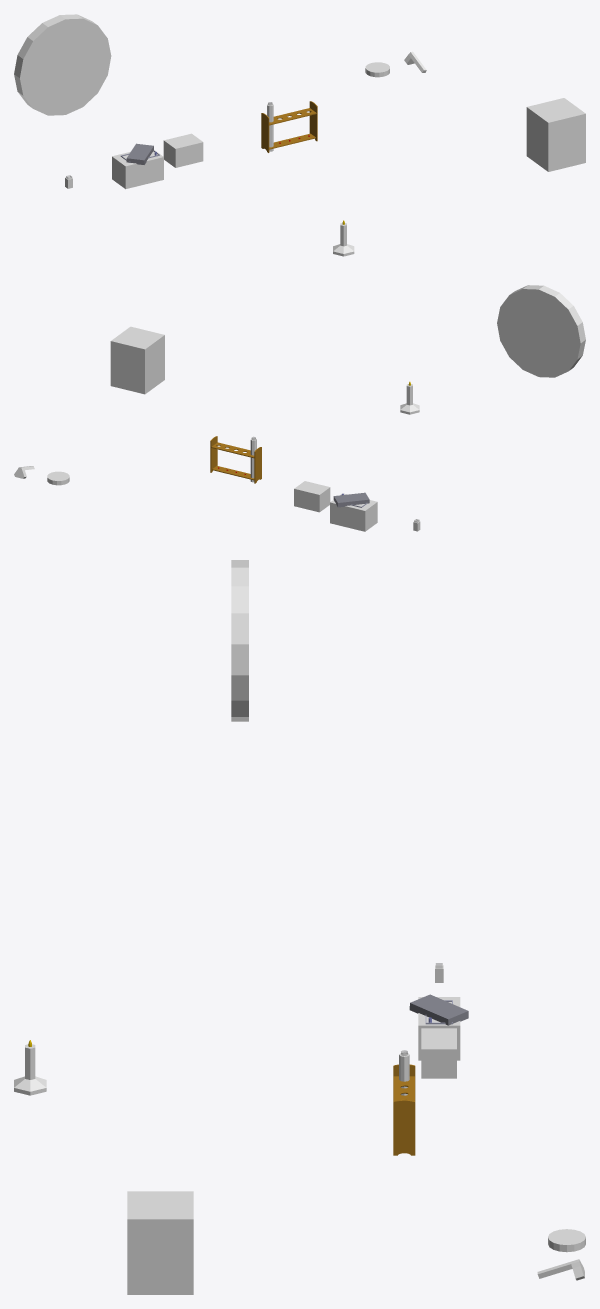
File: labObjectsSet2.glb
The picture shows the model from 3 angles, top to bottom: view 1: azimuth 30°, elevation 25°; view 2: azimuth 150°, elevation 25°; view 3: azimuth 270°, elevation 25°; orthographic projection. The views are drawn at different scales.
Parts seen in each view (by area): view 1: hitSurface (×6), lid, Cube.004; view 2: hitSurface (×5), lid; view 3: hitSurface (×3), surface.007, lid.
Boxes of the visible parts, left/top/right/bottom form: hitSurface (×6): left=14, top=14, right=585, bottom=256; lid: left=126, top=143, right=153, bottom=164; Cube.004: left=269, top=108, right=316, bottom=125; hitSurface (×5): left=110, top=285, right=585, bottom=531; lid: left=333, top=492, right=369, bottom=507; hitSurface (×3): left=127, top=560, right=456, bottom=1294; surface.007: left=393, top=1100, right=415, bottom=1155; lid: left=409, top=994, right=468, bottom=1025.
Size of the model in its own units: 2.63 by 1.15 by 1.6.
